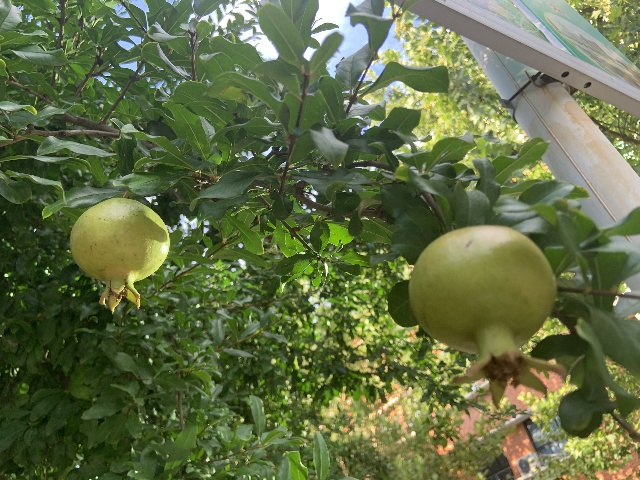mid-growth: (409, 224, 559, 403), (68, 196, 170, 313)
